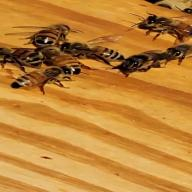Bee: (6, 62, 82, 95), (128, 6, 192, 41), (18, 16, 78, 46), (72, 39, 128, 71)
